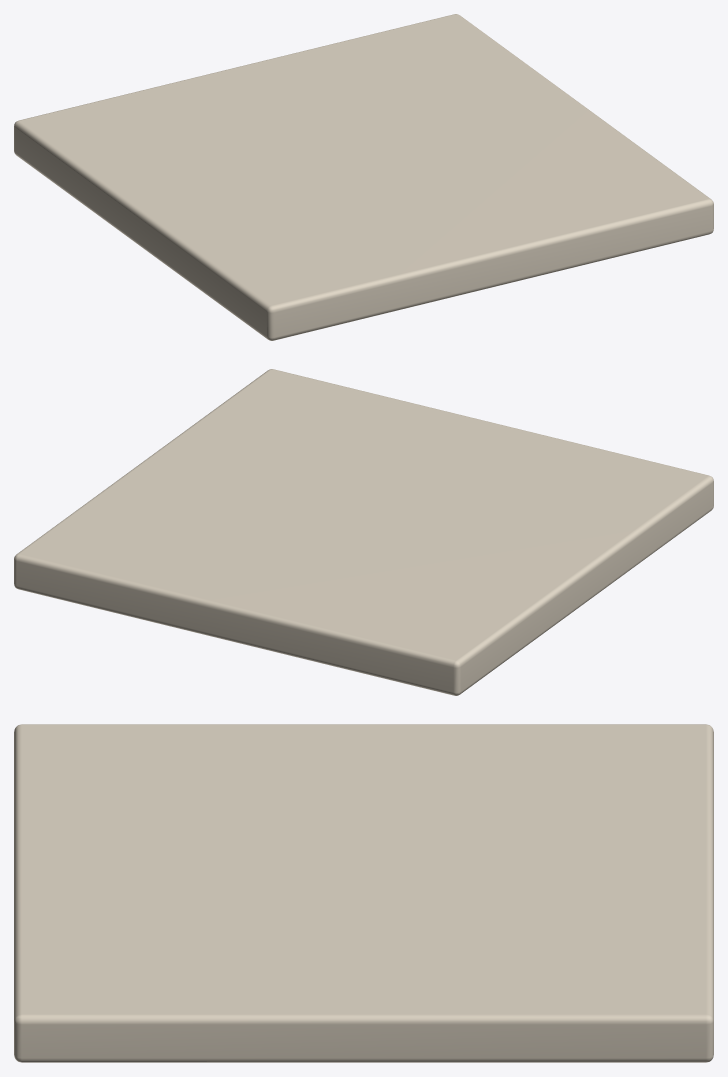
Rendered from floor-cream.obj.
3 renders of one model, top to bottom at view 1: azimuth 30°, elevation 25°; view 2: azimuth 150°, elevation 25°; view 3: azimuth 270°, elevation 25°, orthographic. The views are drawn at different scales.
Visible parts, largest first — view 1: floor-cream_tileLight; view 2: floor-cream_tileLight; view 3: floor-cream_tileLight.
Boxes of the visible parts, x1,y1,x2,y2 form: floor-cream_tileLight: [14, 14, 713, 340]; floor-cream_tileLight: [14, 369, 713, 695]; floor-cream_tileLight: [14, 724, 713, 1062].
Bounding box in the file's own units: 0.799 × 0.06 × 0.799.
